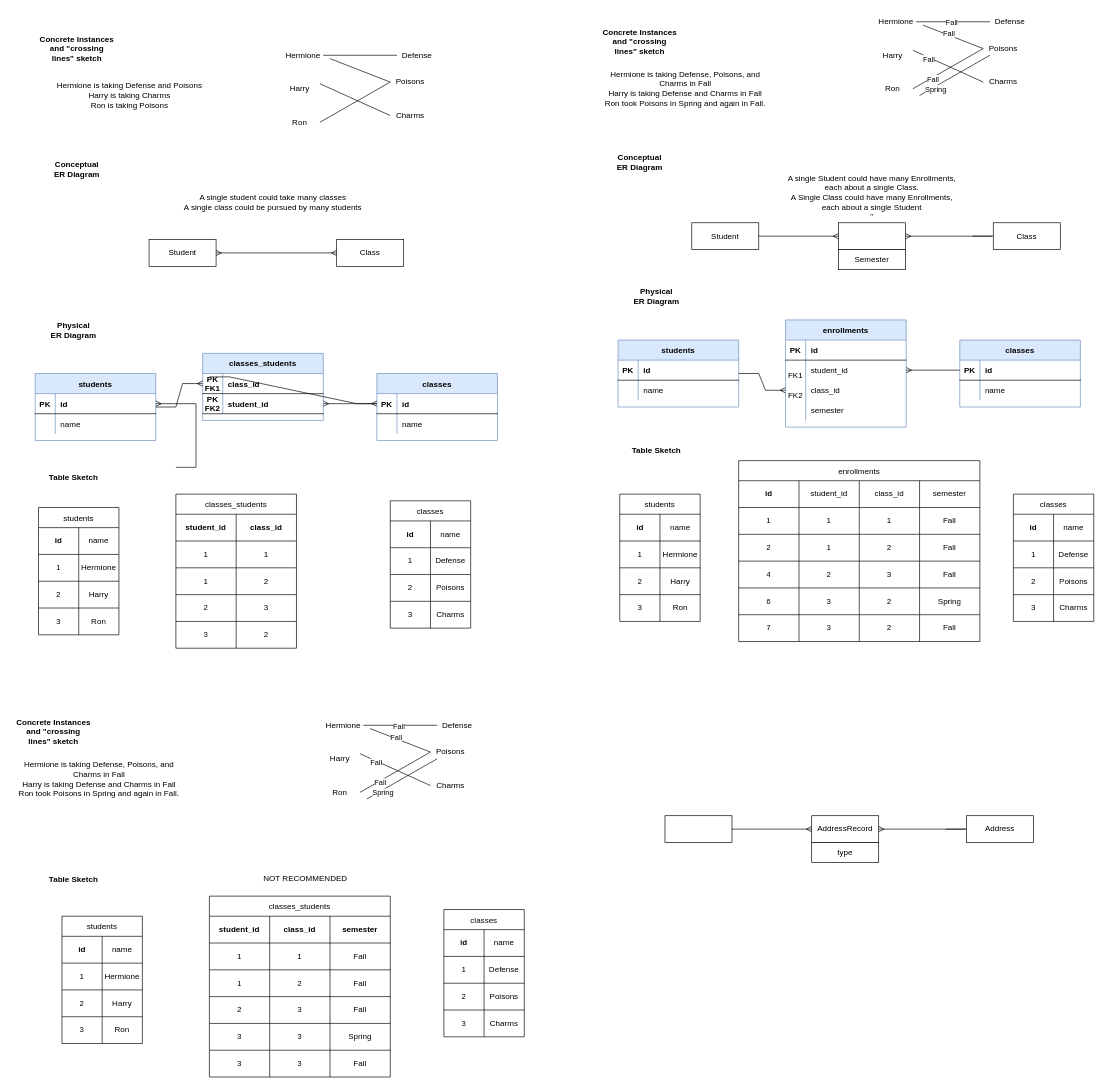
The diagram is 1106 pixels wide and 1089 high, and some of its shapes have lost their labels. The box of each missing label's shape, as (x1, y1, x2, y2) in pixels:
Enrollment: (838, 222, 906, 250)
Person: (664, 815, 732, 843)
